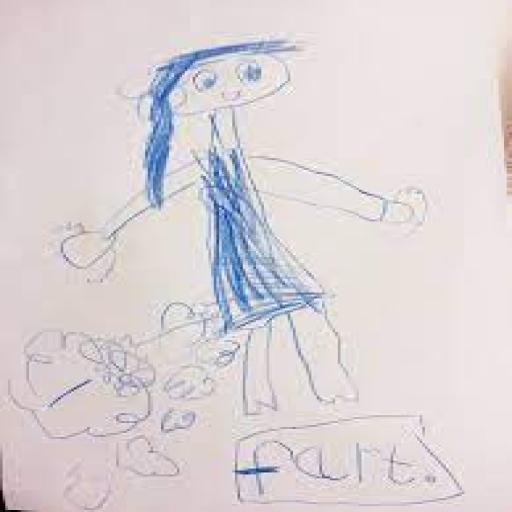person: (55, 38, 428, 414)
